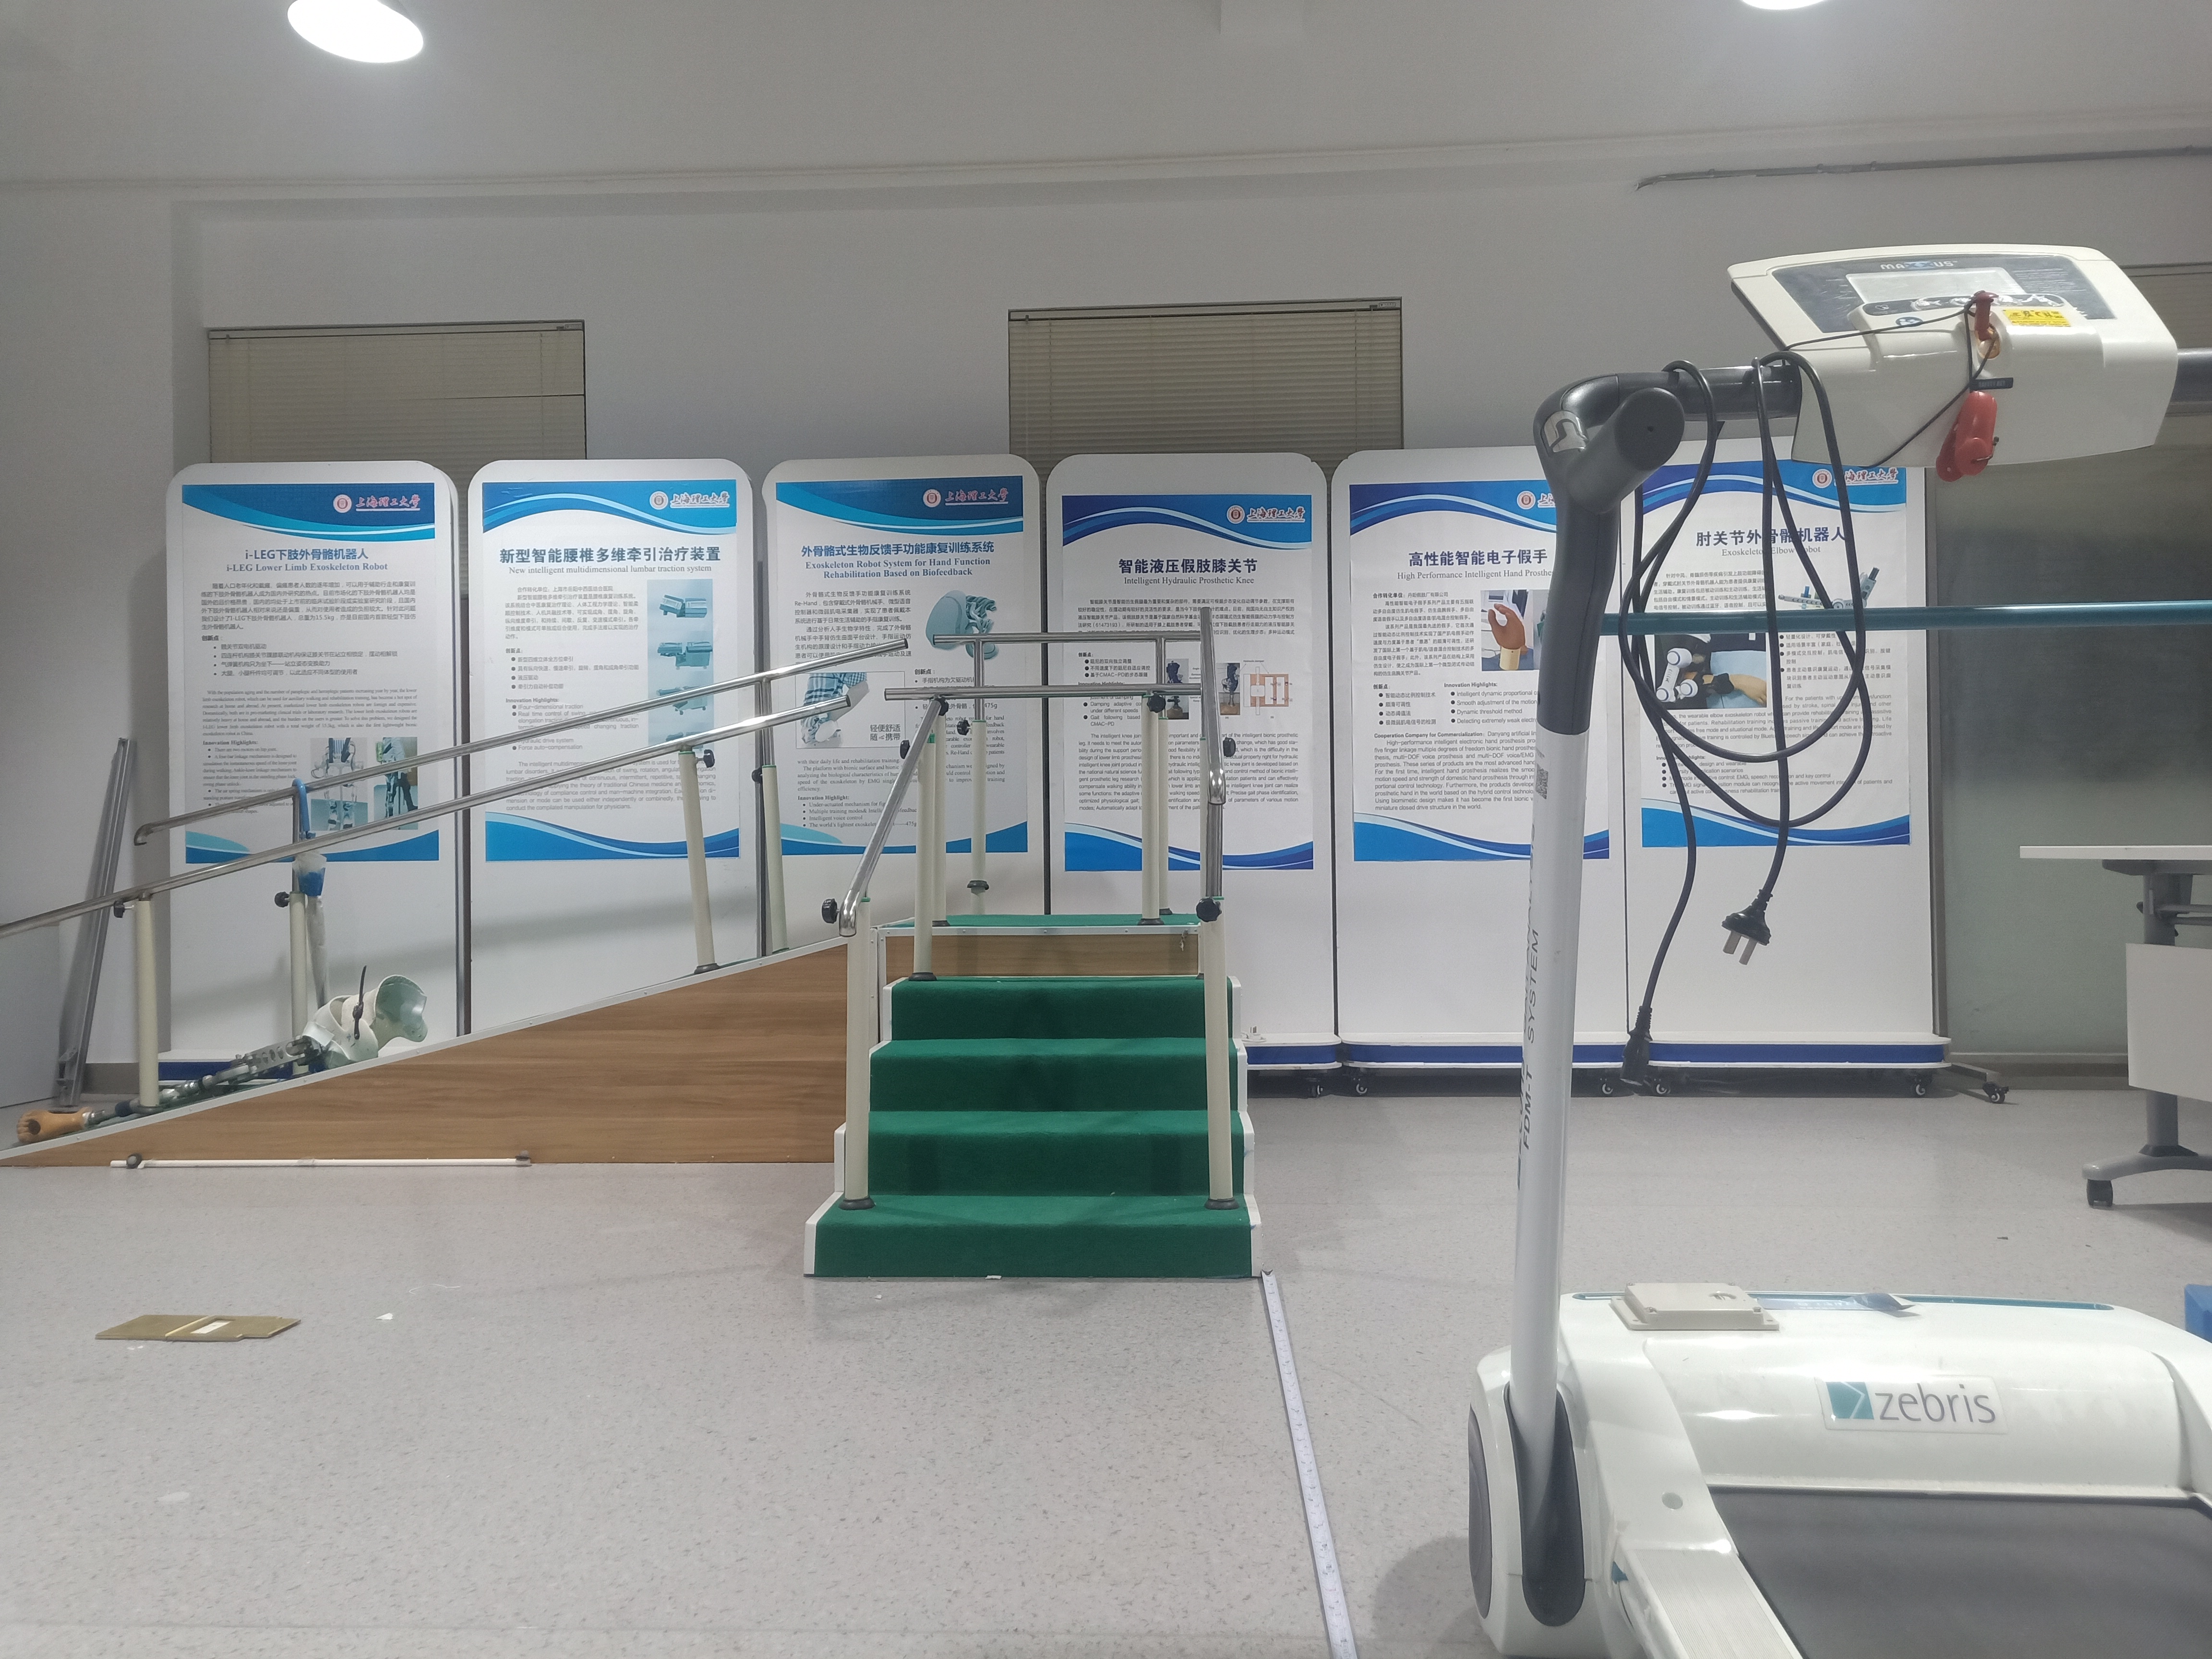stairs: (801, 969, 1268, 1283)
